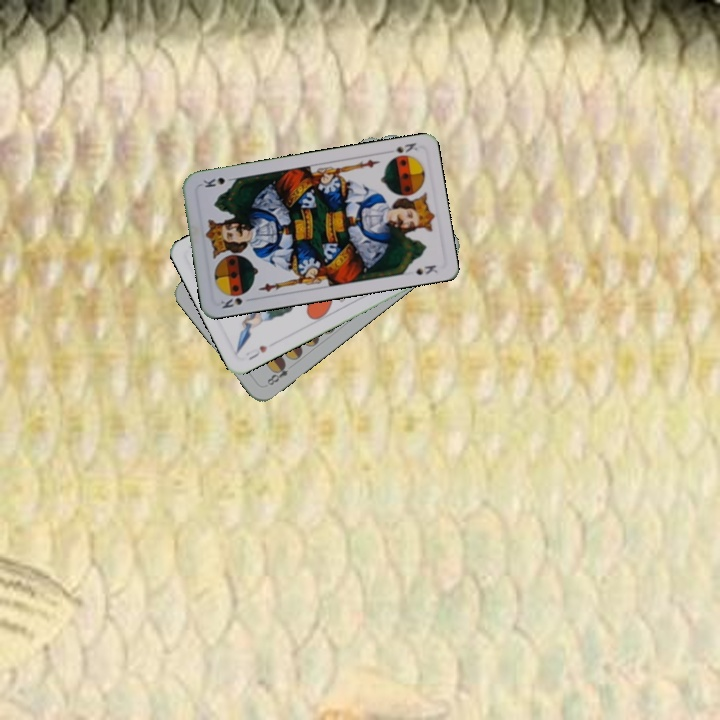E8: (261, 358, 291, 389)
HU: (242, 341, 270, 363)
SK: (385, 138, 420, 162), (216, 294, 245, 311)
